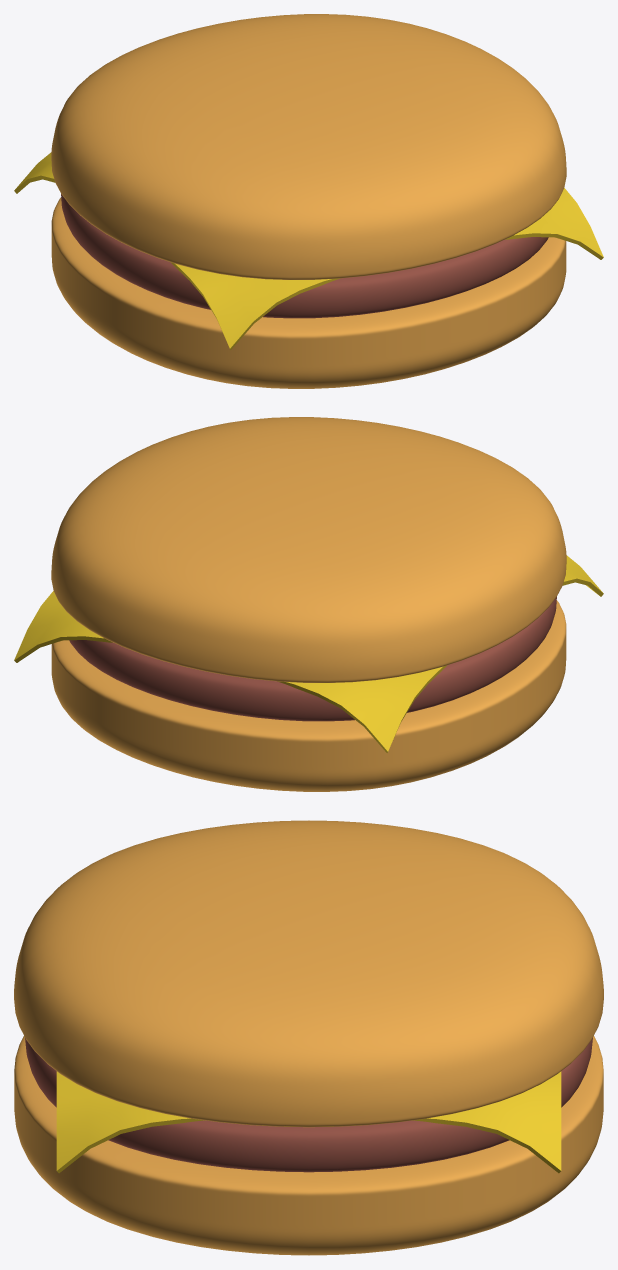
File: hamburger.glb
3 renders of one model, top to bottom at view 1: azimuth 30°, elevation 25°; view 2: azimuth 150°, elevation 25°; view 3: azimuth 270°, elevation 25°, orthographic. The views are drawn at different scales.
Parts seen in each view (by area): view 1: Cube.002, Cube, Cube.001, Plane; view 2: Cube.002, Cube, Cube.001, Plane; view 3: Cube.002, Cube, Cube.001, Plane.
Part boxes in pixels (x1,y1,x2,y2): Cube.002: [51, 14, 566, 279]; Cube: [51, 197, 566, 388]; Cube.001: [61, 194, 548, 318]; Plane: [14, 152, 603, 349]; Cube.002: [51, 417, 566, 682]; Cube: [51, 600, 566, 791]; Cube.001: [69, 597, 556, 721]; Plane: [14, 555, 603, 752]; Cube.002: [14, 820, 603, 1127]; Cube: [14, 1036, 603, 1255]; Cube.001: [25, 1038, 592, 1172]; Plane: [56, 1071, 561, 1173].
Bounding box in the file's own units: 9.17 × 4.55 × 9.17.
